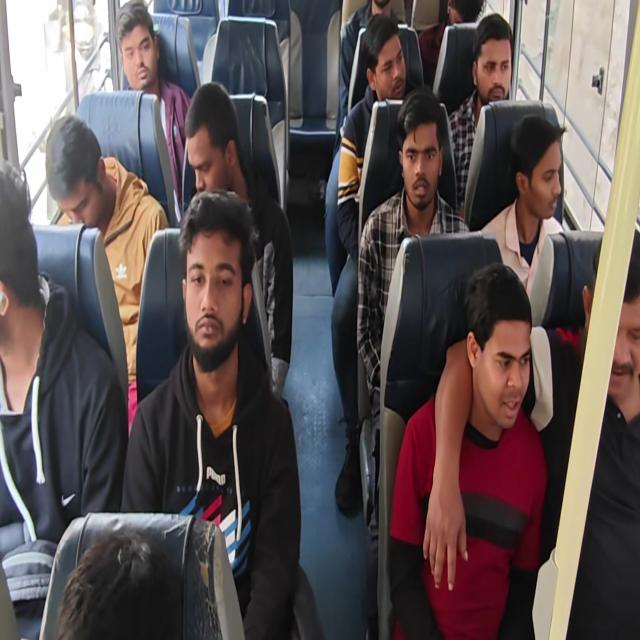person: (434, 226, 640, 638), (120, 188, 302, 638), (356, 86, 471, 637), (0, 160, 129, 638), (388, 261, 548, 638), (45, 114, 169, 436), (552, 226, 640, 639), (182, 81, 294, 400), (336, 14, 407, 260), (115, 0, 192, 220), (479, 113, 567, 303), (55, 524, 184, 639), (447, 12, 513, 212), (334, 1, 396, 158), (418, 0, 484, 90)
